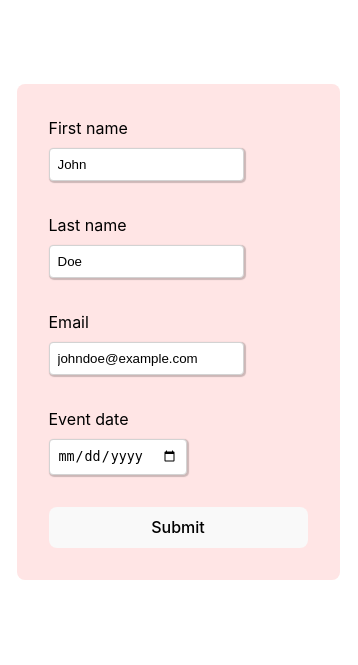
it: App › should show the error messages when submit button is clicked
Click the button "Submit": click(179, 528) [49, 507, 308, 548]
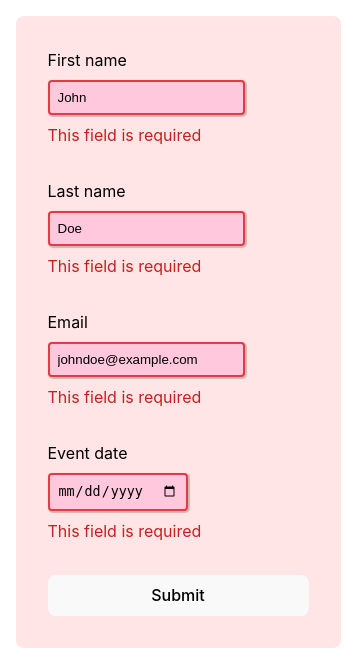
Result: the message "This field is required" below "First name" is shown at [48, 123, 202, 147]
Result: the message "This field is required" below "Last name" is shown at [48, 254, 202, 278]
Result: the message "This field is required" below "Email" is shown at [48, 385, 202, 409]
